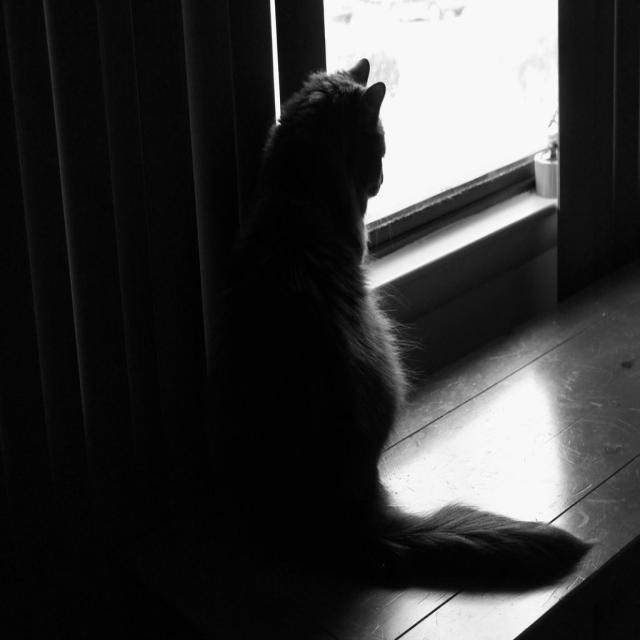Cat: (195, 4, 612, 585)
